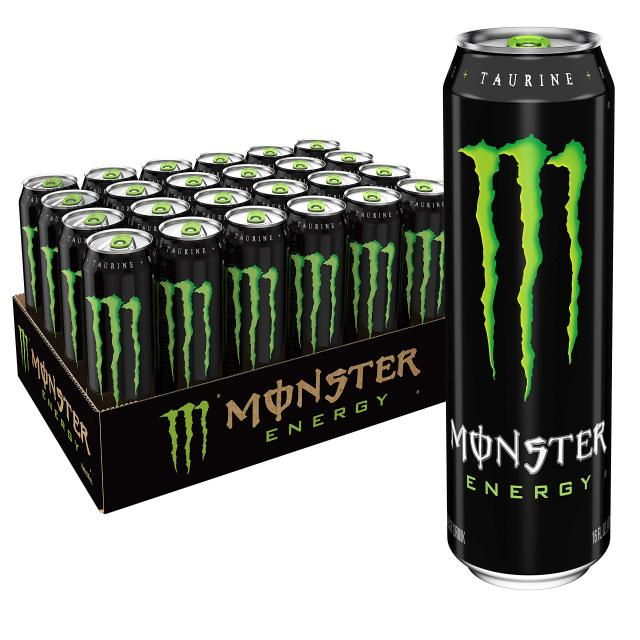Cans: (425, 25, 614, 593)
